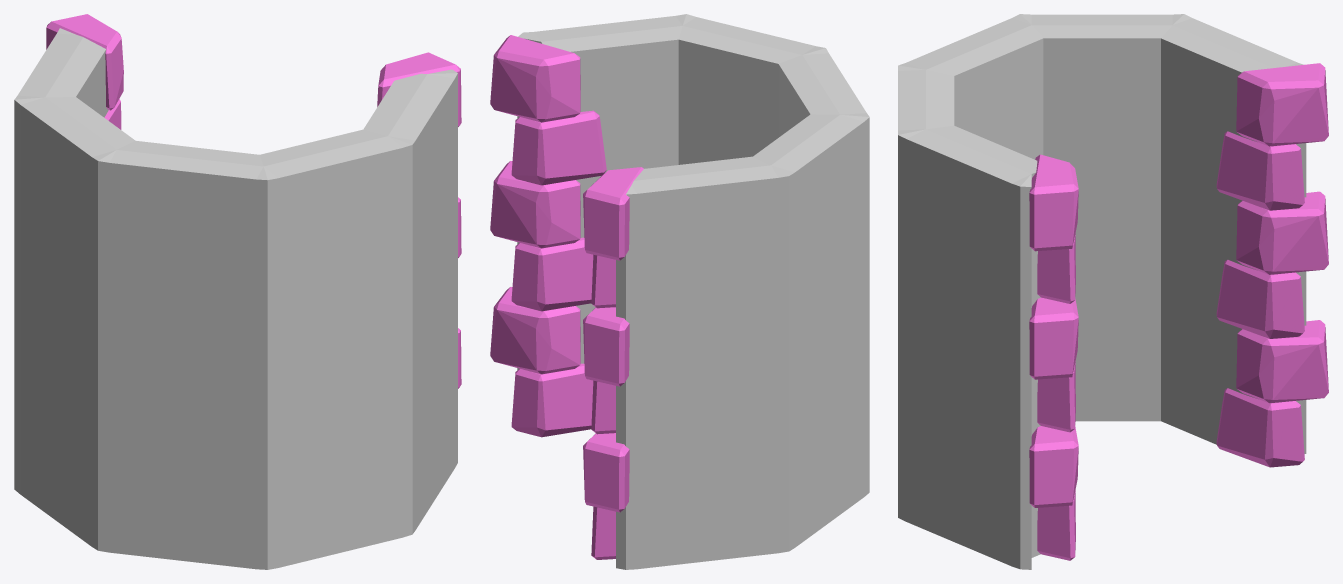
The model's file is SM_Tower_Round_3m_Blank_Half_Fantasy.fbx.
The picture shows the model from 3 angles, left to right: view 1: azimuth 30°, elevation 25°; view 2: azimuth 150°, elevation 25°; view 3: azimuth 270°, elevation 25°; orthographic projection. The views are drawn at different scales.
Visible parts, largest first — view 1: SM_Tower_Round_3m_Blank_Half_Fantasy; view 2: SM_Tower_Round_3m_Blank_Half_Fantasy; view 3: SM_Tower_Round_3m_Blank_Half_Fantasy.
Boxes of the visible parts, x1,y1,x2,y2 form: SM_Tower_Round_3m_Blank_Half_Fantasy: [14, 14, 461, 569]; SM_Tower_Round_3m_Blank_Half_Fantasy: [490, 14, 869, 569]; SM_Tower_Round_3m_Blank_Half_Fantasy: [898, 14, 1328, 569].
Bounding box in the file's own units: 2.99 × 3.02 × 3.06.
